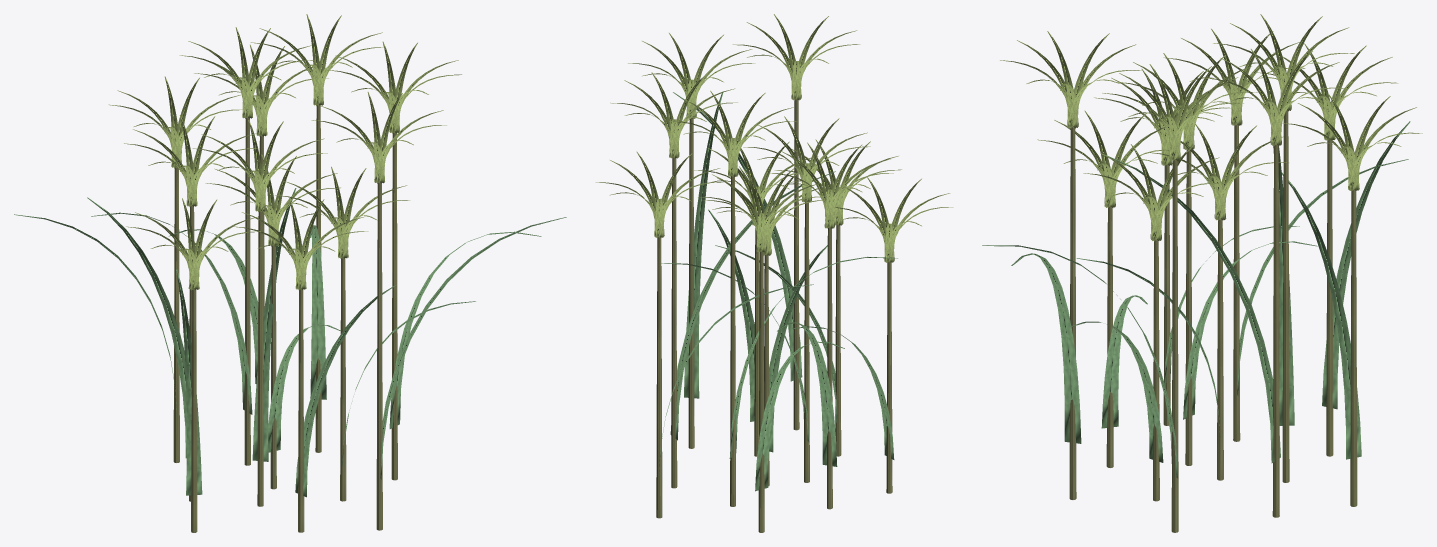
File: papyrus_clump_swamp_and_mangrove_22629.glb
3 views of the same model, side by side, from view 1: azimuth 30°, elevation 25°; view 2: azimuth 150°, elevation 25°; view 3: azimuth 270°, elevation 25° (orthographic). The views are drawn at different scales.
Visible parts, largest first — view 1: papyrus; view 2: papyrus; view 3: papyrus.
Part boxes in pixels (x1,y1,x2,y2): papyrus: (14,14,566,532); papyrus: (595,14,953,532); papyrus: (982,14,1422,532).
Bounding box in the file's own units: 1.55 × 1.65 × 1.5.
Materials: 3 (3 with a texture image).
